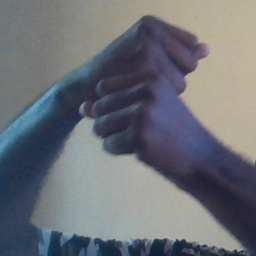G: (77, 11, 211, 161)
